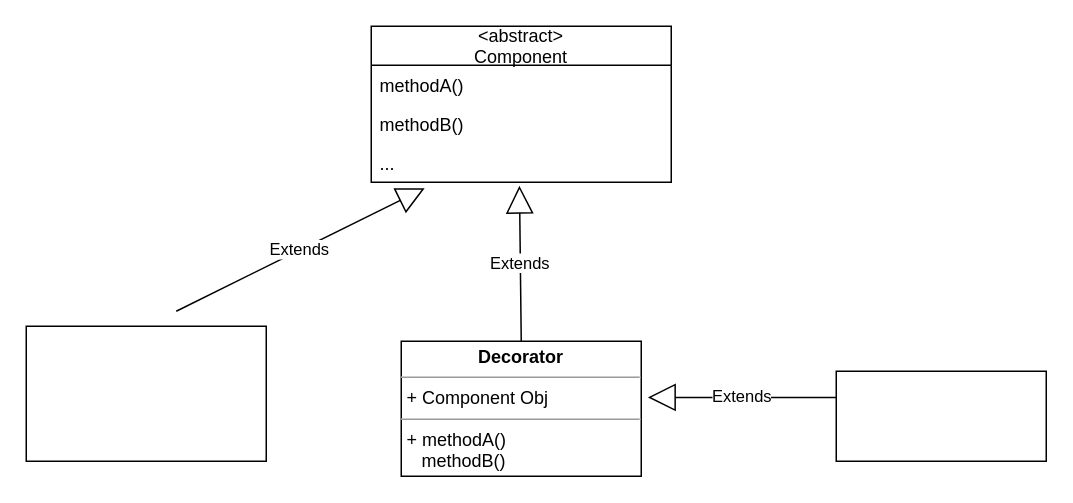
This 1073x503 diagram has some shape labels left out. The shapes that lost their labels are listed below. From the top down, each one's centre as x and y in pixels, then its label:
the point at 145,393: ConcreteComponent methodA() methodB()
the point at 940,415: ConcreteDecorator methodA() methodB()
